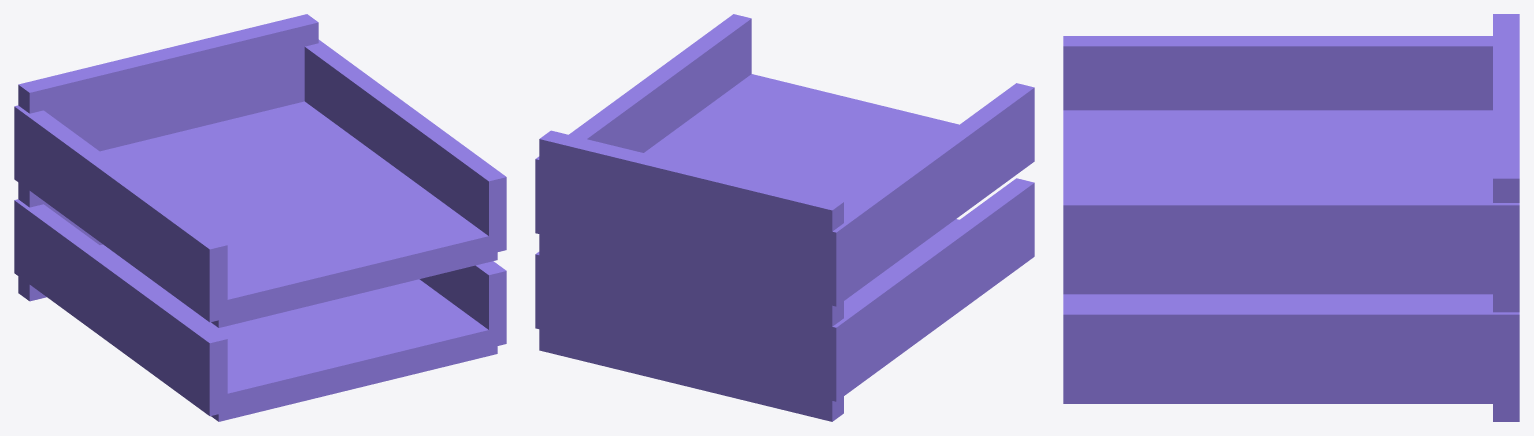
3 renders of one model, left to right at view 1: azimuth 30°, elevation 25°; view 2: azimuth 150°, elevation 25°; view 3: azimuth 270°, elevation 25°, orthographic. The views are drawn at different scales.
Visible parts, largest first — view 1: Shelf.001, Shelf, Back, Side, Side.002, Side.003, Side.001; view 2: Back, Shelf.001, Side, Side.002, Side.003, Shelf, Side.001; view 3: Side.001, Side.003, Shelf.001, Side.002, Shelf, Back.
Boxes of the visible parts, <box> form: Shelf.001: <box>100,101,497,327</box>; Shelf: <box>100,244,497,421</box>; Back: <box>18,14,318,301</box>; Side: <box>14,199,227,416</box>; Side.002: <box>14,105,227,322</box>; Side.003: <box>304,39,506,251</box>; Side.001: <box>419,261,506,347</box>; Back: <box>539,130,843,421</box>; Shelf.001: <box>544,74,958,311</box>; Side: <box>818,178,1034,401</box>; Side.002: <box>818,83,1034,306</box>; Side.003: <box>535,14,751,236</box>; Shelf: <box>544,219,959,407</box>; Side.001: <box>535,252,553,332</box>; Side.001: <box>1063,304,1519,399</box>; Side.003: <box>1063,195,1519,290</box>; Shelf.001: <box>1063,110,1492,294</box>; Side.002: <box>1063,36,1492,110</box>; Shelf: <box>1063,294,1492,403</box>; Back: <box>1493,14,1519,421</box>.
Size of the model in its own units: 0.298 by 0.2 by 0.34.
1 material, 1 textured.
